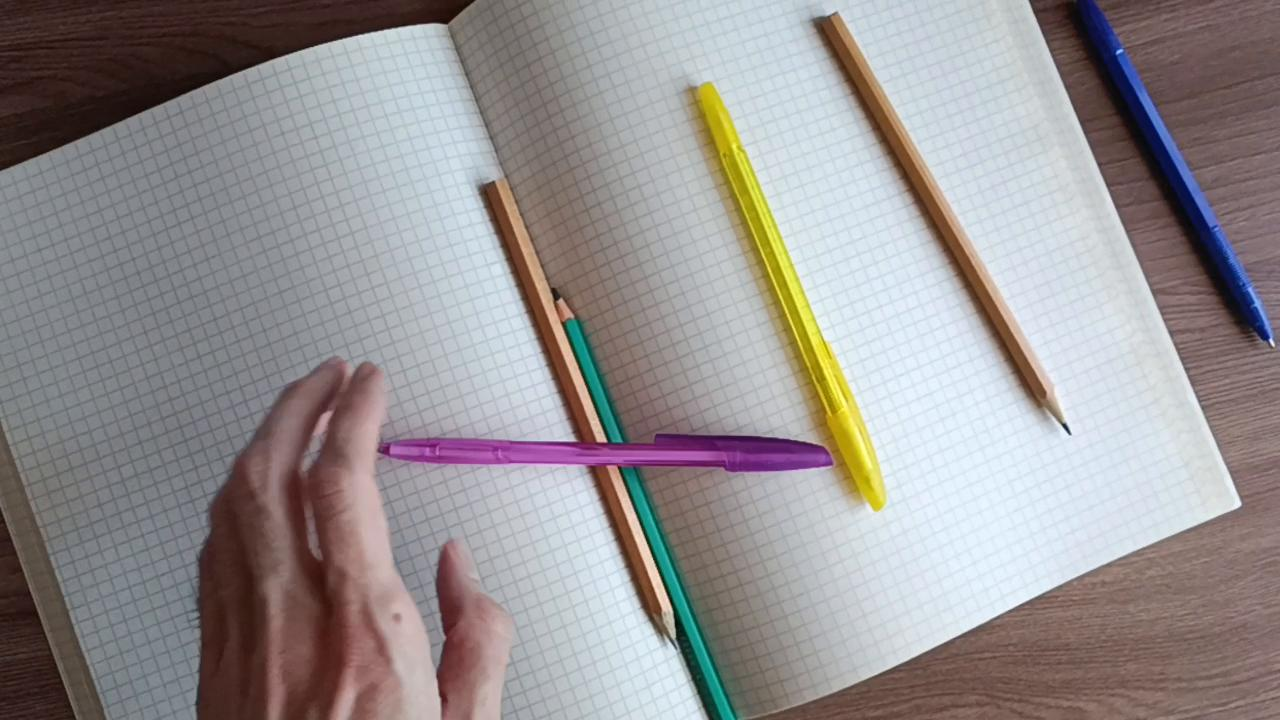pen: (693, 73, 890, 518), (1061, 0, 1280, 348), (379, 429, 839, 482)
pencil: (816, 9, 1074, 439), (477, 177, 679, 650), (550, 283, 740, 720)
